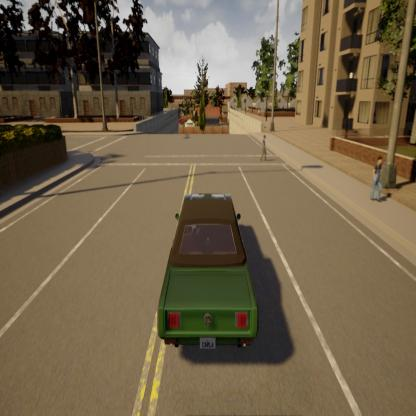Cars: (141, 172, 271, 368)
Pedestrian: (366, 148, 390, 218), (252, 126, 278, 178)
